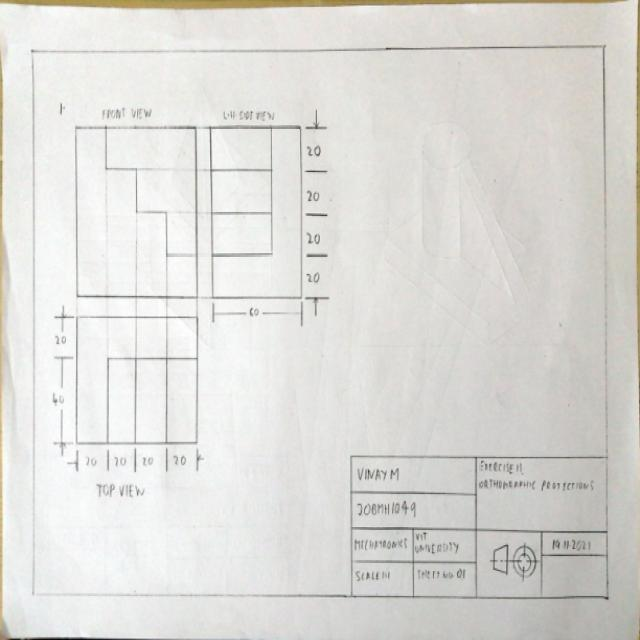Drawings: (44, 89, 340, 480)
